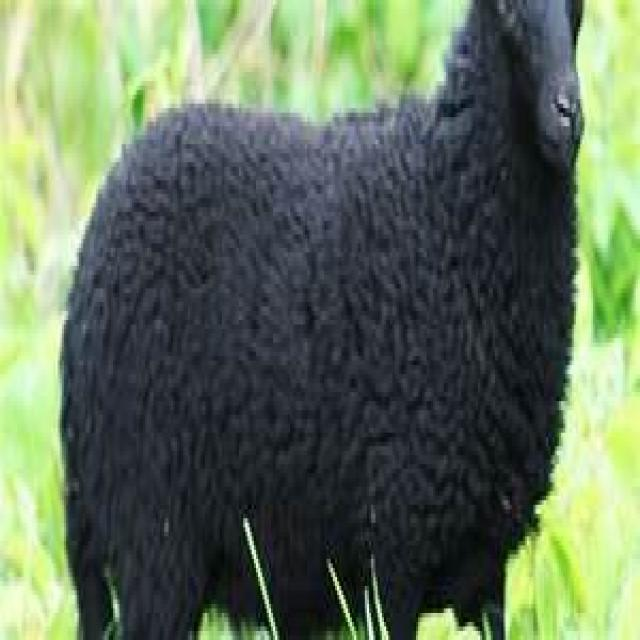sheep: (55, 0, 586, 635)
